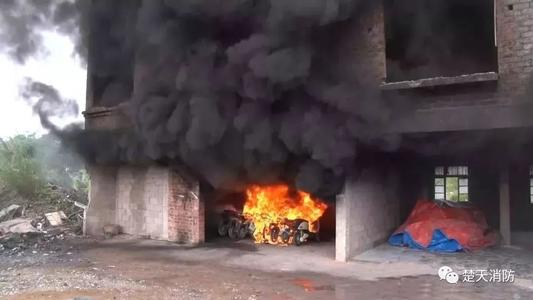fire: (234, 173, 337, 244)
